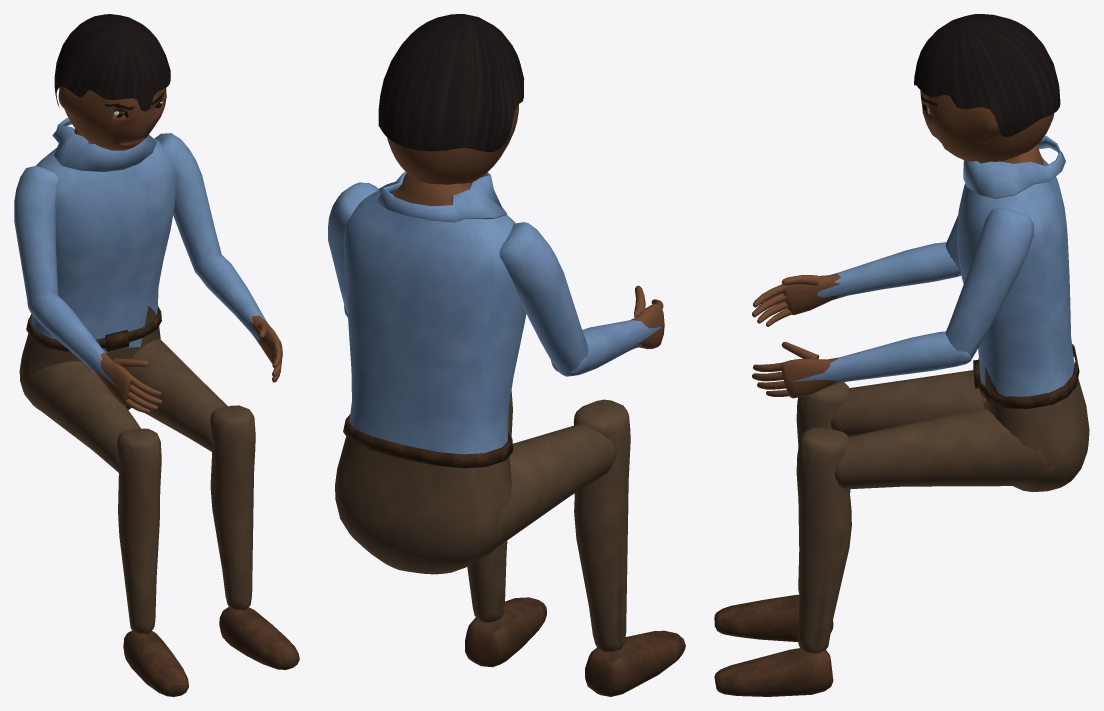
File: persona_nino_sentado_medio.obj
3 views of the same model, side by side, from view 1: azimuth 30°, elevation 25°; view 2: azimuth 150°, elevation 25°; view 3: azimuth 270°, elevation 25° (orthographic). The views are drawn at different scales.
Parts seen in each view (by area): view 1: persona_nino_sentado; view 2: persona_nino_sentado; view 3: persona_nino_sentado.
Part boxes in pixels (x1=…): persona_nino_sentado: x1=14, y1=14, x2=299, y2=696; persona_nino_sentado: x1=328, y1=14, x2=685, y2=696; persona_nino_sentado: x1=714, y1=14, x2=1089, y2=696.
Size of the model in its own units: 0.3241 by 0.9356 by 0.4911.
12 materials, 12 textured.
